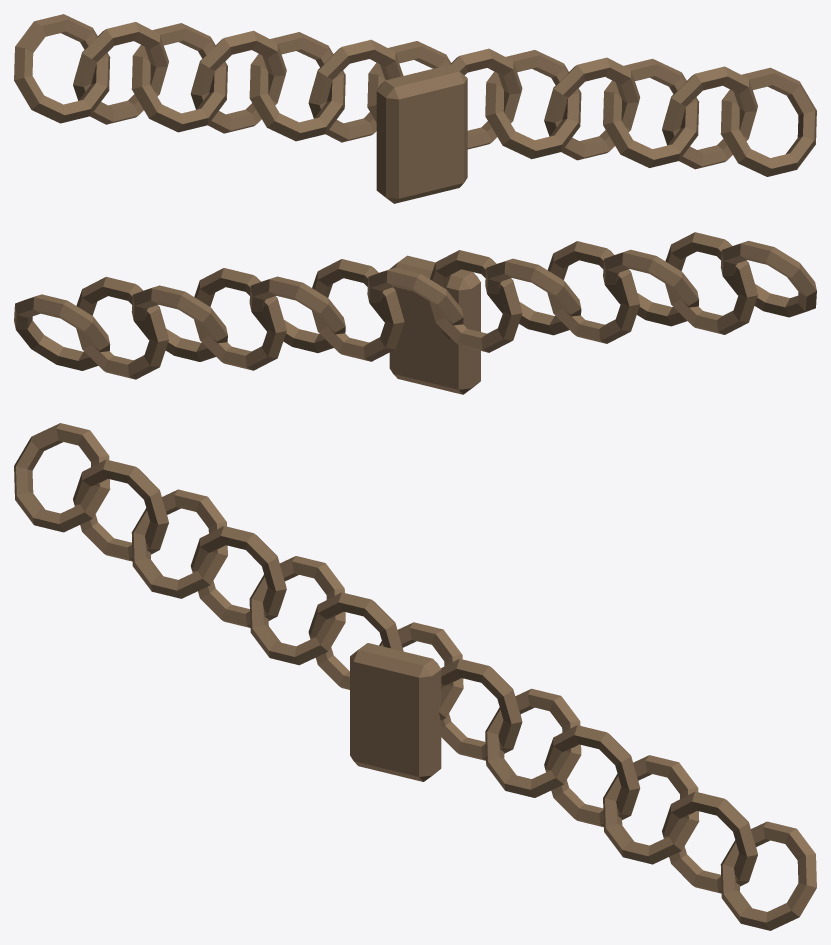
File: wreck-cabin-chain.glb
3 views of the same model, one above another, from view 1: azimuth 30°, elevation 25°; view 2: azimuth 150°, elevation 25°; view 3: azimuth 330°, elevation 25° (orthographic).
Parts seen in each view (by area): view 1: padlock, rusted chain link.012, rusted chain link, rusted chain link.010, rusted chain link.008, rusted chain link.004, rusted chain link.002, rusted chain link.009, rusted chain link.011, rusted chain link.001, rusted chain link.003, rusted chain link.007 (+2 smaller); view 2: padlock, rusted chain link, rusted chain link.007, rusted chain link.005, rusted chain link.011, rusted chain link.001, rusted chain link.003, rusted chain link.009, rusted chain link.012, rusted chain link.008, rusted chain link.004, rusted chain link.002 (+2 smaller); view 3: padlock, rusted chain link.012, rusted chain link, rusted chain link.004, rusted chain link.008, rusted chain link.002, rusted chain link.010, rusted chain link.001, rusted chain link.011, rusted chain link.003, rusted chain link.009, rusted chain link.005 (+2 smaller).
Boxes of the visible parts, x1,y1,x2,y2 form: padlock: [376, 64, 467, 203]; rusted chain link.012: [14, 14, 110, 123]; rusted chain link: [720, 67, 816, 176]; rusted chain link.010: [131, 23, 227, 132]; rusted chain link.008: [249, 32, 345, 141]; rusted chain link.004: [485, 50, 581, 159]; rusted chain link.002: [603, 58, 699, 167]; rusted chain link.009: [190, 30, 286, 133]; rusted chain link.011: [73, 22, 168, 124]; rusted chain link.001: [662, 66, 757, 169]; rusted chain link.003: [544, 57, 640, 160]; rusted chain link.007: [308, 39, 403, 142]; padlock: [389, 255, 480, 394]; rusted chain link: [14, 294, 110, 370]; rusted chain link.007: [429, 250, 522, 352]; rusted chain link.005: [311, 259, 404, 361]; rusted chain link.011: [665, 232, 757, 334]; rusted chain link.001: [76, 276, 168, 379]; rusted chain link.003: [194, 268, 286, 370]; rusted chain link.009: [547, 241, 640, 343]; rusted chain link.012: [720, 240, 816, 317]; rusted chain link.008: [485, 258, 581, 335]; rusted chain link.004: [249, 276, 345, 352]; rusted chain link.002: [131, 285, 227, 361]; padlock: [350, 643, 441, 781]; rusted chain link.012: [14, 423, 110, 532]; rusted chain link: [720, 821, 816, 930]; rusted chain link.004: [485, 688, 581, 797]; rusted chain link.008: [249, 556, 345, 665]; rusted chain link.002: [603, 755, 699, 864]; rusted chain link.010: [131, 489, 227, 598]; rusted chain link.001: [662, 791, 757, 893]; rusted chain link.011: [73, 459, 168, 561]; rusted chain link.003: [544, 725, 640, 827]; rusted chain link.009: [190, 526, 286, 627]; rusted chain link.005: [441, 658, 522, 760].
Bounding box in the file's own units: 2.45 × 0.9021 × 0.2033.
